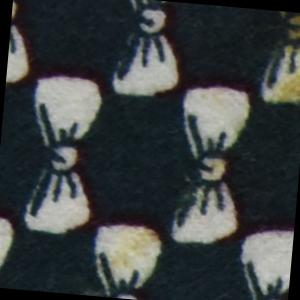Stain: (102, 222, 166, 279), (270, 11, 300, 113)
